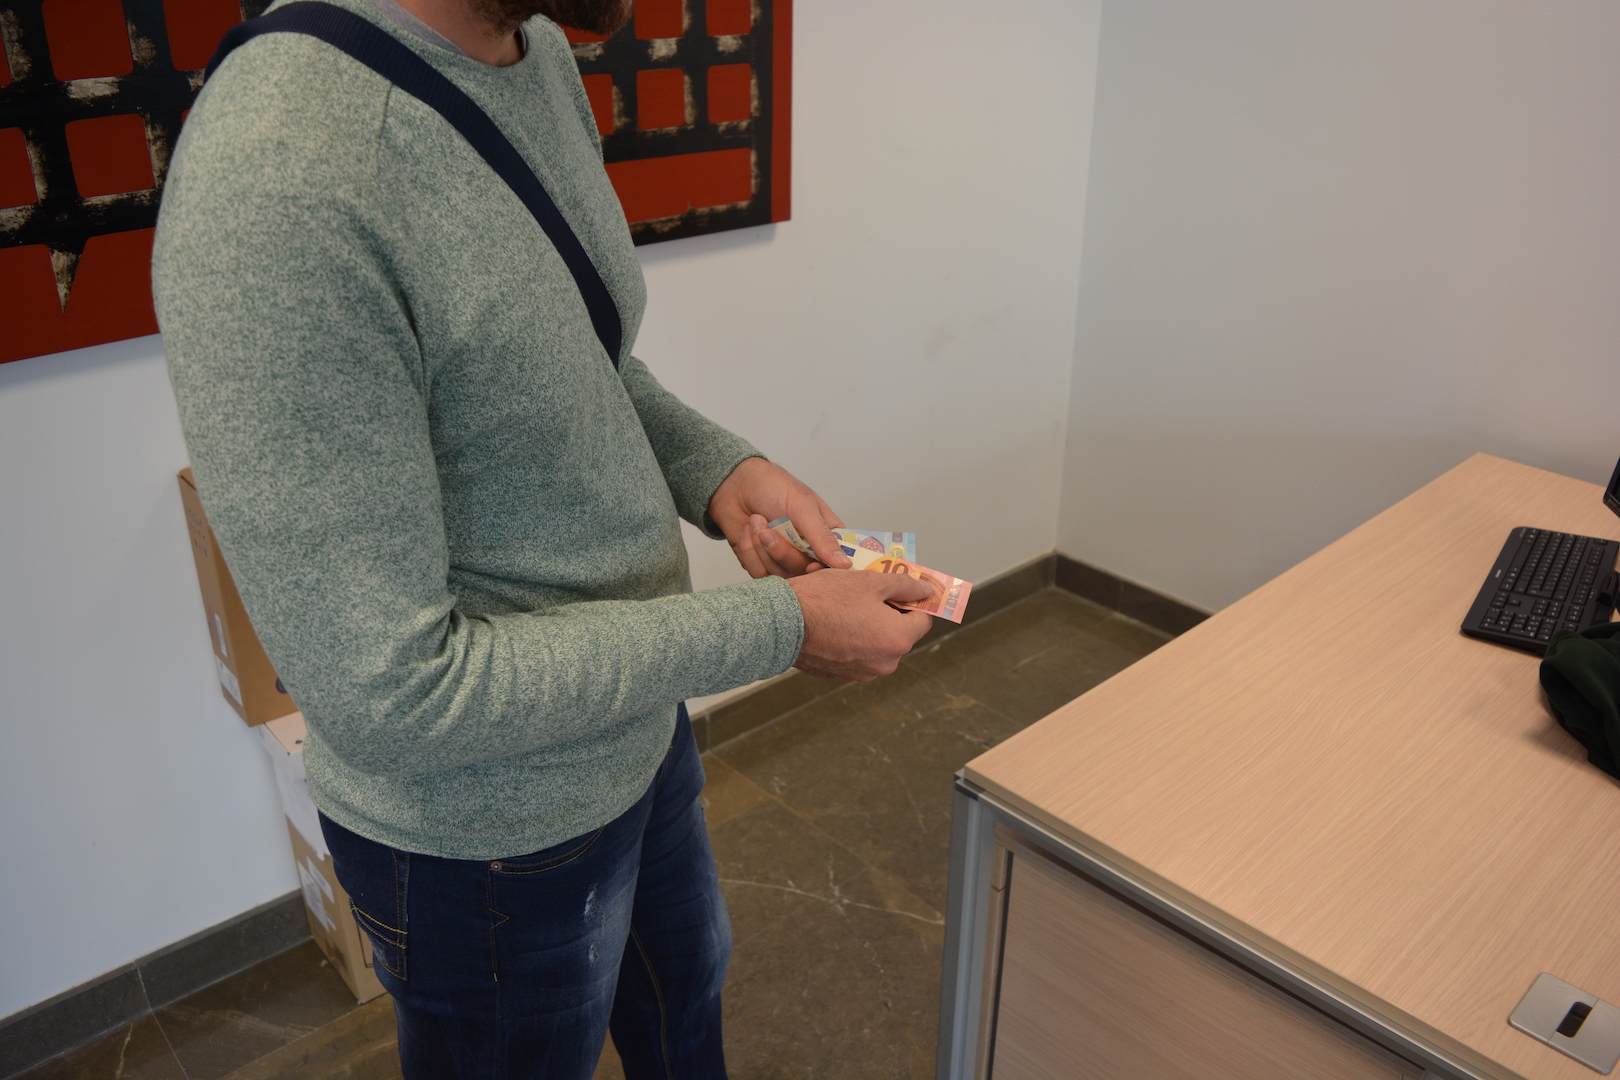billete: (833, 539, 975, 624), (765, 515, 918, 565)
